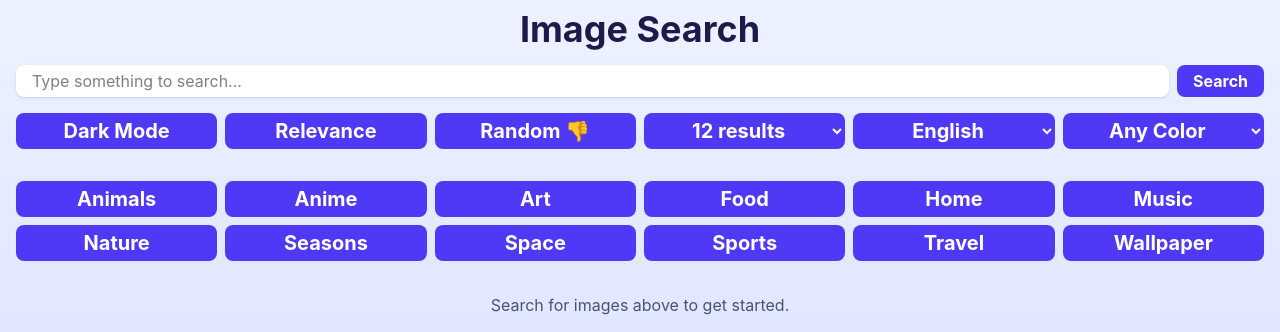
Test case: Home page integration › shows 'No results found.' when the API returns an empty array
In the search field: point(592, 81) [16,65,1169,97], type "xkcdzzz"
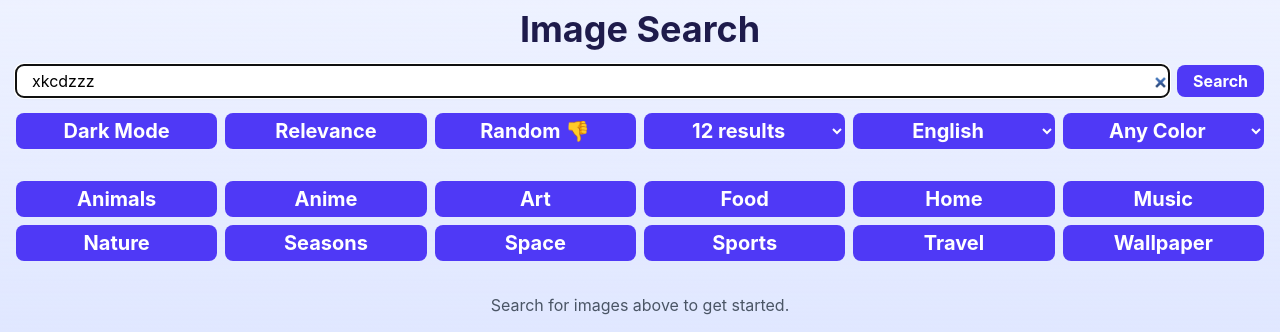
Click the button "Search": point(1220, 81) [1177,65,1264,97]
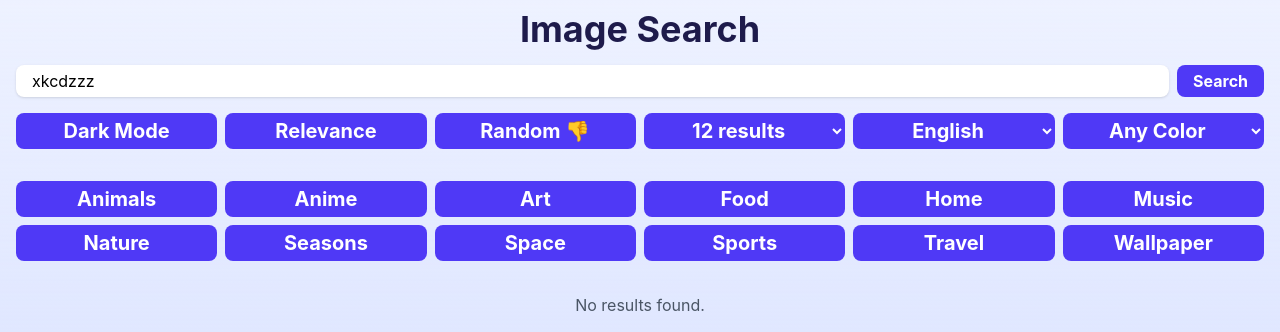
Expected: the text "No results found." is shown, [575,295,705,315]
